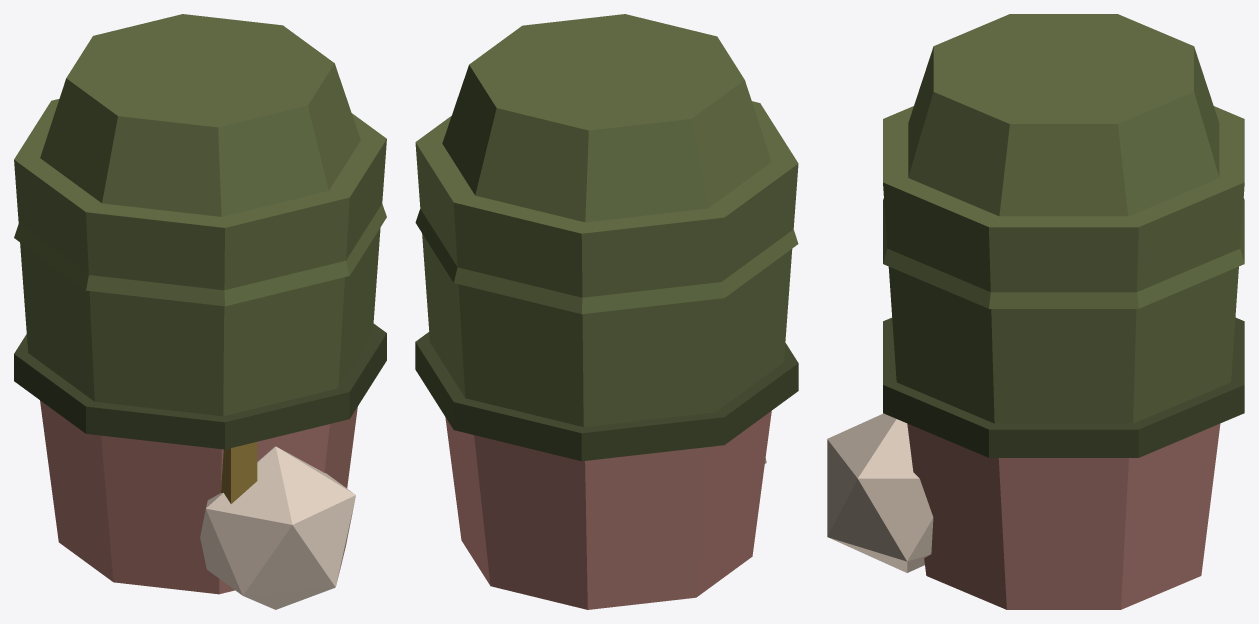
File: inf_v2_runner_upper_leg.fbx
3 renders of one model, left to right at view 1: azimuth 30°, elevation 25°; view 2: azimuth 150°, elevation 25°; view 3: azimuth 270°, elevation 25°, orthographic. The views are drawn at different scales.
Parts seen in each view (by area): view 1: inf_v2_runner_upper_leg; view 2: inf_v2_runner_upper_leg; view 3: inf_v2_runner_upper_leg.
Boxes of the visible parts, x1,y1,x2,y2 form: inf_v2_runner_upper_leg: [14, 14, 386, 609]; inf_v2_runner_upper_leg: [415, 14, 798, 609]; inf_v2_runner_upper_leg: [827, 14, 1244, 609].
Bounding box in the file's own units: 92.39 × 142 × 107.
